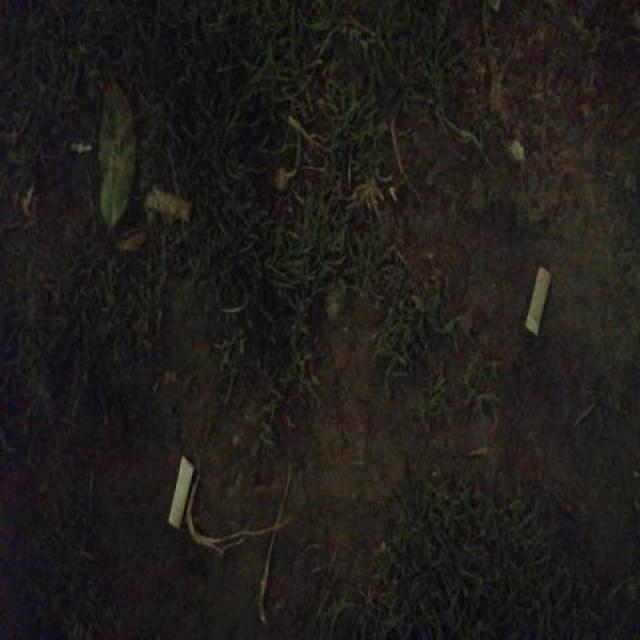non-organic waste: (164, 446, 200, 530), (140, 180, 197, 232), (520, 261, 556, 339)
